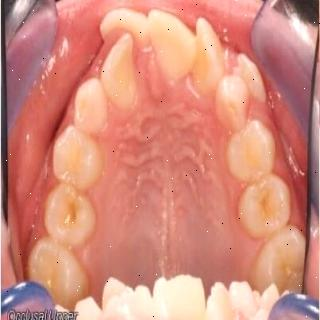maligned: (140, 11, 198, 79), (95, 41, 143, 105), (191, 17, 225, 93), (215, 69, 251, 129), (232, 50, 270, 96), (103, 7, 149, 43)
